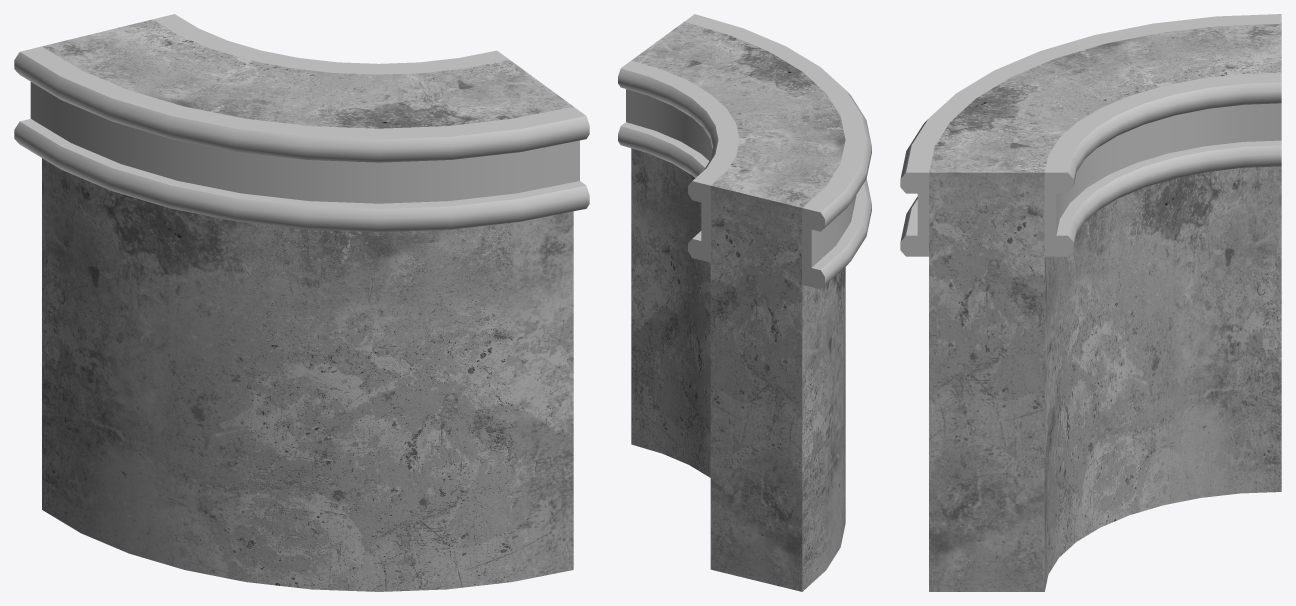
File: SM_Wallkit_Round_01c.fbx
3 renders of one model, left to right at view 1: azimuth 30°, elevation 25°; view 2: azimuth 150°, elevation 25°; view 3: azimuth 270°, elevation 25°, orthographic. The views are drawn at different scales.
Parts seen in each view (by area): view 1: SM_Wallkit_Round_01c_LOD0; view 2: SM_Wallkit_Round_01c_LOD0; view 3: SM_Wallkit_Round_01c_LOD0.
Part boxes in pixels (x1,y1,x2,y2): SM_Wallkit_Round_01c_LOD0: [14, 14, 589, 591]; SM_Wallkit_Round_01c_LOD0: [618, 14, 871, 591]; SM_Wallkit_Round_01c_LOD0: [900, 14, 1281, 591].
Bounding box in the file's own units: 329 × 329 × 400.
